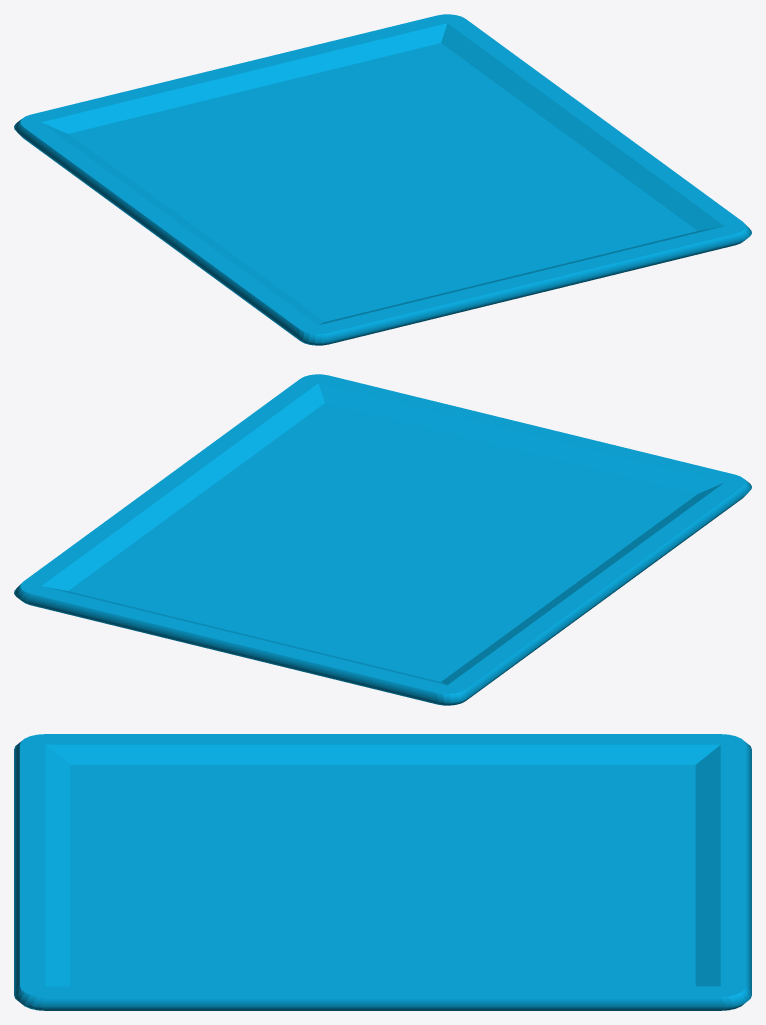
The model's file is Restaurant_Gas_Stove_Tray_Lod0.fbx.
The picture shows the model from 3 angles, top to bottom: view 1: azimuth 30°, elevation 25°; view 2: azimuth 150°, elevation 25°; view 3: azimuth 270°, elevation 25°; orthographic projection. The views are drawn at different scales.
Parts seen in each view (by area): view 1: Restaurant_Gas_Stove_Tray_Lod0; view 2: Restaurant_Gas_Stove_Tray_Lod0; view 3: Restaurant_Gas_Stove_Tray_Lod0.
Part boxes in pixels (x1,y1,x2,y2): Restaurant_Gas_Stove_Tray_Lod0: (14, 14, 751, 345); Restaurant_Gas_Stove_Tray_Lod0: (14, 374, 751, 705); Restaurant_Gas_Stove_Tray_Lod0: (14, 734, 751, 1010).
Size of the model in its own units: 42.3 by 1.03 by 49.3.
